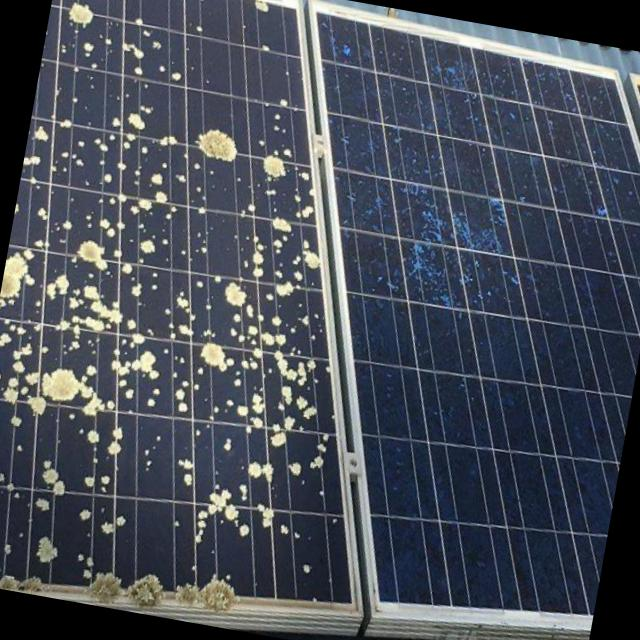faulty: (0, 0, 351, 606), (317, 13, 640, 617)
